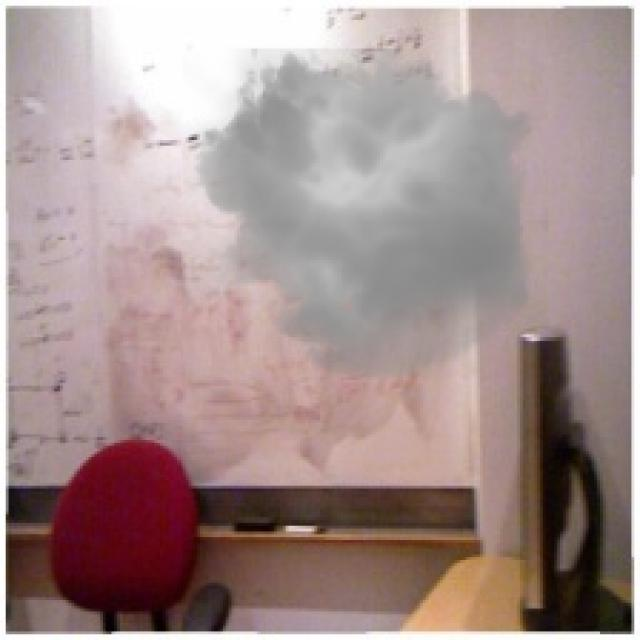smoke: (183, 31, 548, 392)
